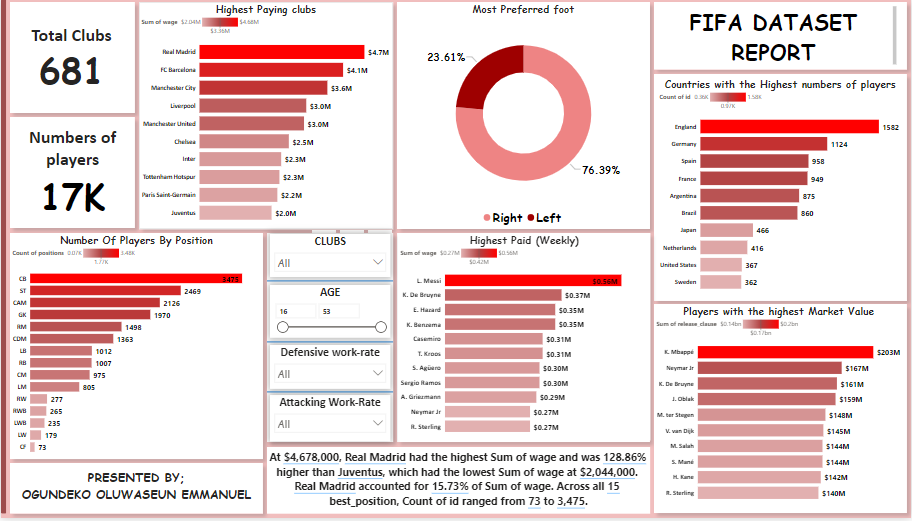

Layout of this report page (visuals, bound fields, positions):
{"tool":"powerbi","page":{"name":"Page 1","canvas":[2023,1150],"ordinal":0},"visuals":[{"type":"shape","box":[0,0,12,1150],"z":0},{"type":"shape","box":[19.8,6.6,279.1,248.4],"z":1000},{"type":"shape","box":[20,522.4,564.7,504.6],"z":2000},{"type":"shape","box":[19.8,263.7,279.1,248.4],"z":3000},{"type":"shape","box":[309,6.7,566.9,506.9],"z":4000},{"type":"shape","box":[884.8,6.7,564.7,506.9],"z":5000},{"type":"shape","box":[1458.3,6.7,564.7,151.2],"z":6000},{"type":"shape","box":[1458.3,166.7,564.7,506.9],"z":7000},{"type":"shape","box":[1458.3,682.5,564.7,466.8],"z":8000},{"type":"shape","box":[884.8,522.4,564.7,466.8],"z":9000},{"type":"shape","box":[593.6,522.4,282.3,466.8],"z":10000},{"type":"shape","box":[20,1036,564.7,113.4],"z":11000},{"type":"card","title":"Total Clubs","fields":{"Values":["Measures (2).clubs"]},"box":[25,35,270,213.8],"z":12000},{"type":"card","title":"Numbers of players","fields":{"Values":["Measures (2).Number of players"]},"box":[21.2,271.2,275,238.8],"z":13000},{"type":"clusteredBarChart","title":"Highest Paying clubs","fields":{"Y":["cleaned_fifa21.wage"],"Category":["cleaned_fifa21.club"]},"box":[308.8,6.2,567.5,507.5],"z":14000},{"type":"clusteredBarChart","title":"Countries with the Highest numbers of players","fields":{"Category":["cleaned_fifa21.nationality"],"Y":["cleaned_fifa21.id"]},"box":[1465,173.4,551.3,493.5],"z":15000},{"type":"donutChart","title":"Most Preferred foot","fields":{"Category":["cleaned_fifa21.preferred_foot"],"Y":["cleaned_fifa21.id"]},"box":[884.8,6.7,564.7,506.9],"z":16000},{"type":"clusteredBarChart","title":"Number Of Players By Position","fields":{"Category":["cleaned_fifa21.best_position"],"Y":["cleaned_fifa21.id"]},"box":[20,521.7,565,505],"z":17000},{"type":"slicer","title":"CLUBS","fields":{"Values":["cleaned_fifa21.club"]},"box":[600,524.4,268.9,95.6],"z":18000},{"type":"slicer","title":"AGE","fields":{"Values":["cleaned_fifa21.age"]},"box":[600,640,268.9,117.8],"z":19000},{"type":"slicer","title":"Attacking Work-Rate","fields":{"Values":["cleaned_fifa21.a/w"]},"box":[600,884.4,268.9,104.4],"z":20000},{"type":"slicer","title":"Defensive work-rate","fields":{"Values":["cleaned_fifa21.d/w"]},"box":[600,773.3,268.9,97.8],"z":21000},{"type":"shape","box":[593.6,622.5,282.3,13.3],"z":22000},{"type":"textbox","box":[1473.9,11.1,531.3,142.3],"z":23000},{"type":"shape","box":[593.6,760.3,282.3,13.3],"z":24000},{"type":"shape","box":[593.6,871.4,282.3,13.3],"z":25000},{"type":"clusteredBarChart","fields":{"Y":["cleaned_fifa21.wage"],"Category":["cleaned_fifa21.name"]},"box":[886.1,523.5,564.4,463.5],"z":26000},{"type":"clusteredBarChart","fields":{"Category":["cleaned_fifa21.name"],"Y":["cleaned_fifa21.release_clause"]},"box":[1458.3,681.7,558.3,455],"z":27000},{"type":"textbox","box":[33.3,1044.8,538,93.4],"z":28000},{"type":"textbox","box":[593.6,1000.4,855.9,148.9],"z":29000}]}

Visuals, with their boxes in screenshot pixels (x1, y1, x2, y2), scaled from the page's 2023x1150 canvas onto the 912x521 screenshot:
shape: {"x1": 0, "y1": 0, "x2": 5, "y2": 520}
shape: {"x1": 9, "y1": 3, "x2": 135, "y2": 116}
shape: {"x1": 9, "y1": 237, "x2": 264, "y2": 465}
shape: {"x1": 9, "y1": 119, "x2": 135, "y2": 232}
shape: {"x1": 139, "y1": 3, "x2": 395, "y2": 233}
shape: {"x1": 399, "y1": 3, "x2": 653, "y2": 233}
shape: {"x1": 657, "y1": 3, "x2": 911, "y2": 72}
shape: {"x1": 657, "y1": 76, "x2": 911, "y2": 305}
shape: {"x1": 657, "y1": 309, "x2": 911, "y2": 520}
shape: {"x1": 399, "y1": 237, "x2": 653, "y2": 448}
shape: {"x1": 268, "y1": 237, "x2": 395, "y2": 448}
shape: {"x1": 9, "y1": 469, "x2": 264, "y2": 520}
"Total Clubs" card: {"x1": 11, "y1": 16, "x2": 133, "y2": 113}
"Numbers of players" card: {"x1": 10, "y1": 123, "x2": 134, "y2": 231}
"Highest Paying clubs" clusteredBarChart: {"x1": 139, "y1": 3, "x2": 395, "y2": 233}
"Countries with the Highest numbers of players" clusteredBarChart: {"x1": 660, "y1": 79, "x2": 909, "y2": 302}
"Most Preferred foot" donutChart: {"x1": 399, "y1": 3, "x2": 653, "y2": 233}
"Number Of Players By Position" clusteredBarChart: {"x1": 9, "y1": 236, "x2": 264, "y2": 465}
"CLUBS" slicer: {"x1": 270, "y1": 238, "x2": 392, "y2": 281}
"AGE" slicer: {"x1": 270, "y1": 290, "x2": 392, "y2": 343}
"Attacking Work-Rate" slicer: {"x1": 270, "y1": 401, "x2": 392, "y2": 448}
"Defensive work-rate" slicer: {"x1": 270, "y1": 350, "x2": 392, "y2": 395}
shape: {"x1": 268, "y1": 282, "x2": 395, "y2": 288}
textbox: {"x1": 664, "y1": 5, "x2": 904, "y2": 69}
shape: {"x1": 268, "y1": 344, "x2": 395, "y2": 350}
shape: {"x1": 268, "y1": 395, "x2": 395, "y2": 401}
clusteredBarChart - cleaned_fifa21.wage x cleaned_fifa21.name: {"x1": 399, "y1": 237, "x2": 654, "y2": 447}
clusteredBarChart - cleaned_fifa21.name x cleaned_fifa21.release_clause: {"x1": 657, "y1": 309, "x2": 909, "y2": 515}
textbox: {"x1": 15, "y1": 473, "x2": 258, "y2": 516}
textbox: {"x1": 268, "y1": 453, "x2": 653, "y2": 520}
